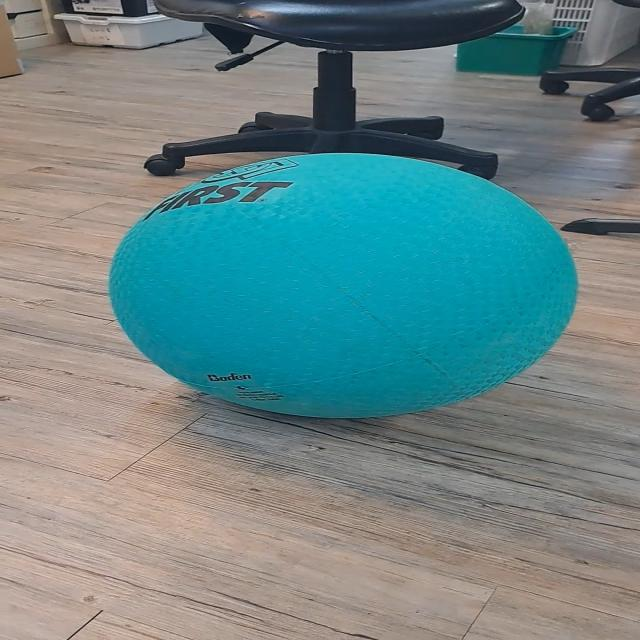ALGAE: (105, 151, 579, 420)
